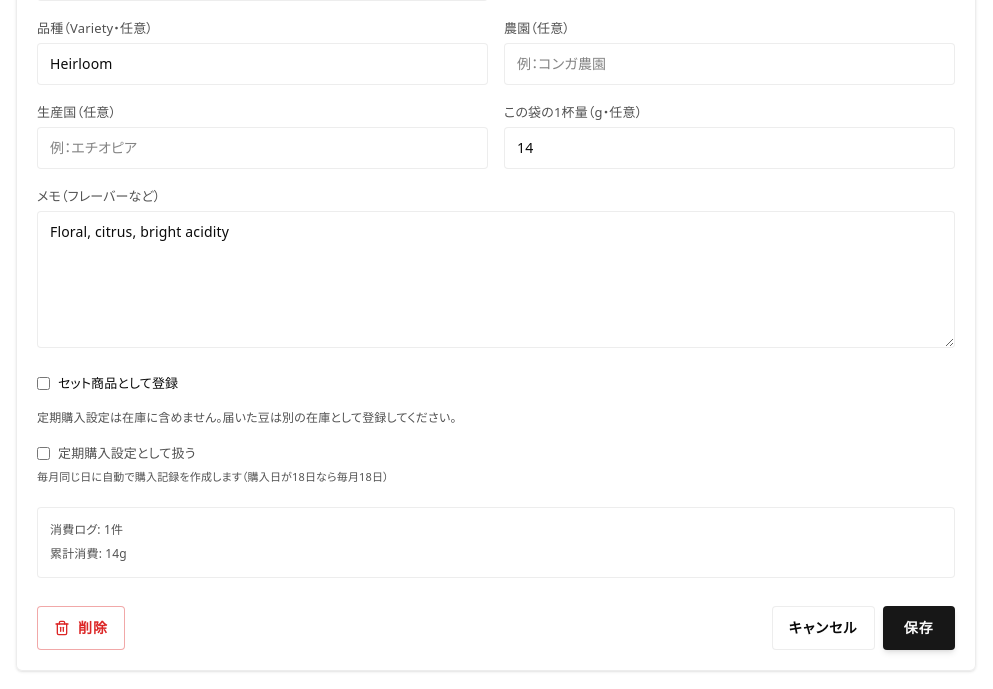
EditBagPage › should hide unnecessary fields when set product checkbox is checked
(page scrolled)
Expected: the field labelled "品種（Variety・任意）" is shown, 37,43 -> 488,85
Expected: the number field labelled "この袋の1杯量（g・任意）" is shown, 504,127 -> 955,169
// Check the "セット商品として登録" checkbox
Click the checkbox labelled "セット商品として登録".
click(44, 383)  # box 37,376 -> 50,390
(page scrolled)
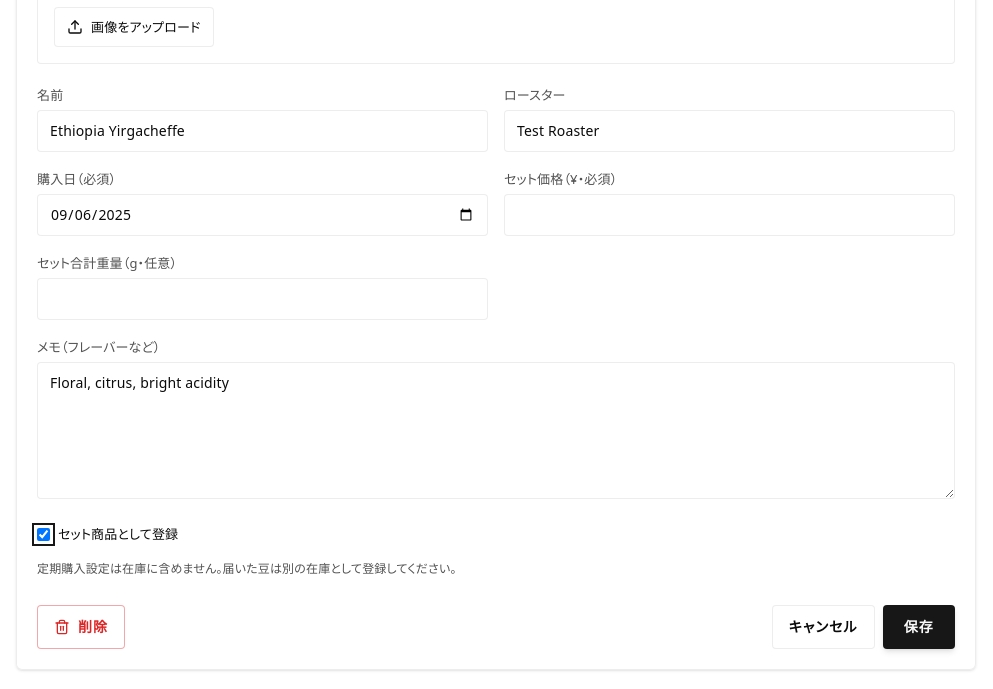
Result: the label labelled "品種（Variety・任意）" is gone
Result: the label labelled "この袋の1杯量（g・任意）" is gone
